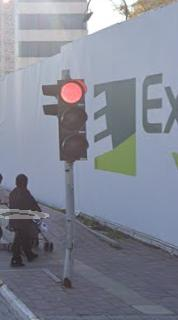redlight: (56, 79, 87, 163)
